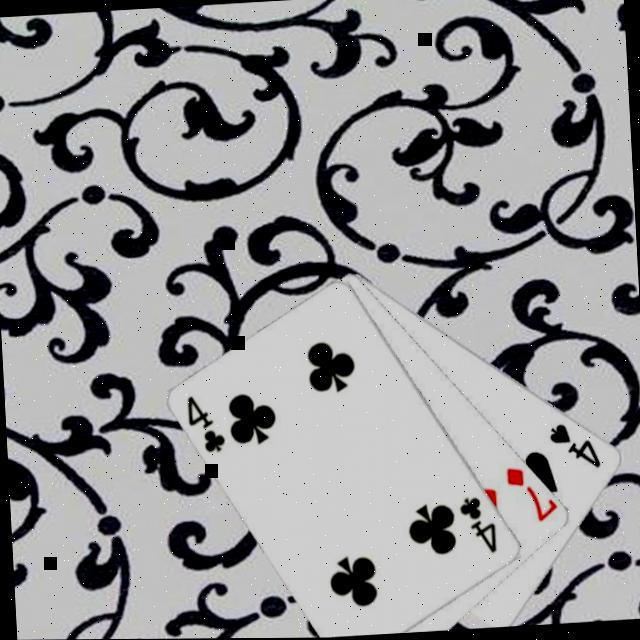4C: (182, 388, 228, 456), (453, 491, 499, 557)
4S: (544, 417, 603, 472)
7D: (501, 461, 558, 526)
